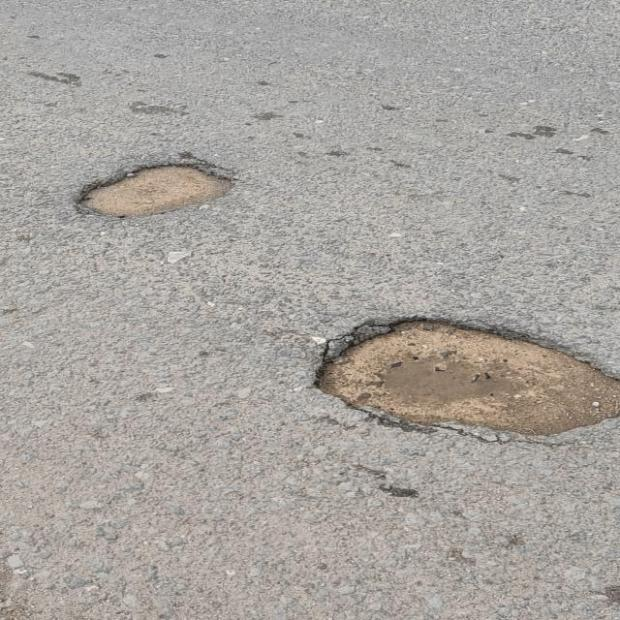lubang: (316, 318, 619, 440), (76, 156, 232, 217)
